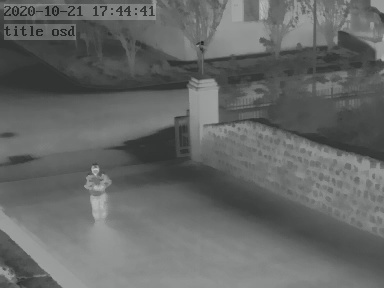person: (82, 155, 112, 225)
